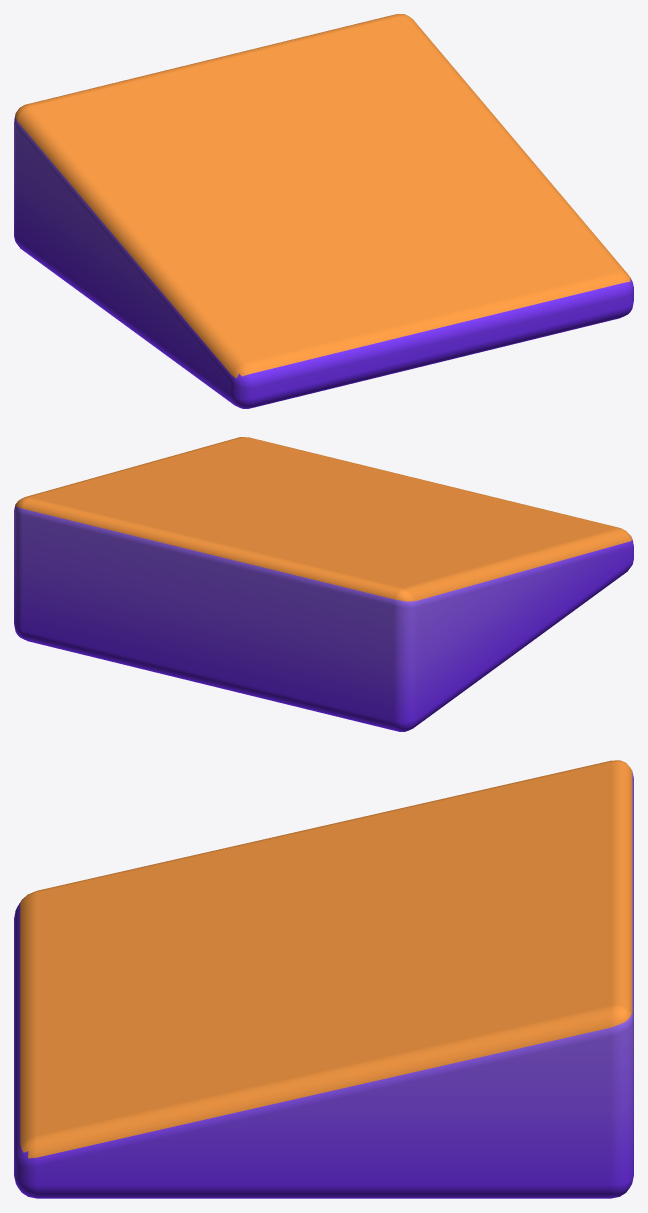
Rendered from ramp_4x4_rise1.glb.
3 renders of one model, top to bottom at view 1: azimuth 30°, elevation 25°; view 2: azimuth 150°, elevation 25°; view 3: azimuth 270°, elevation 25°, orthographic. The views are drawn at different scales.
Parts seen in each view (by area): view 1: ramp_4x4_rise1; view 2: ramp_4x4_rise1; view 3: ramp_4x4_rise1.
Part boxes in pixels (bbox=[...]): ramp_4x4_rise1: bbox=[14, 14, 633, 408]; ramp_4x4_rise1: bbox=[14, 437, 633, 731]; ramp_4x4_rise1: bbox=[14, 760, 633, 1198].
Bounding box in the file's own units: 4 × 1.37 × 4.
1 material, 1 textured.
